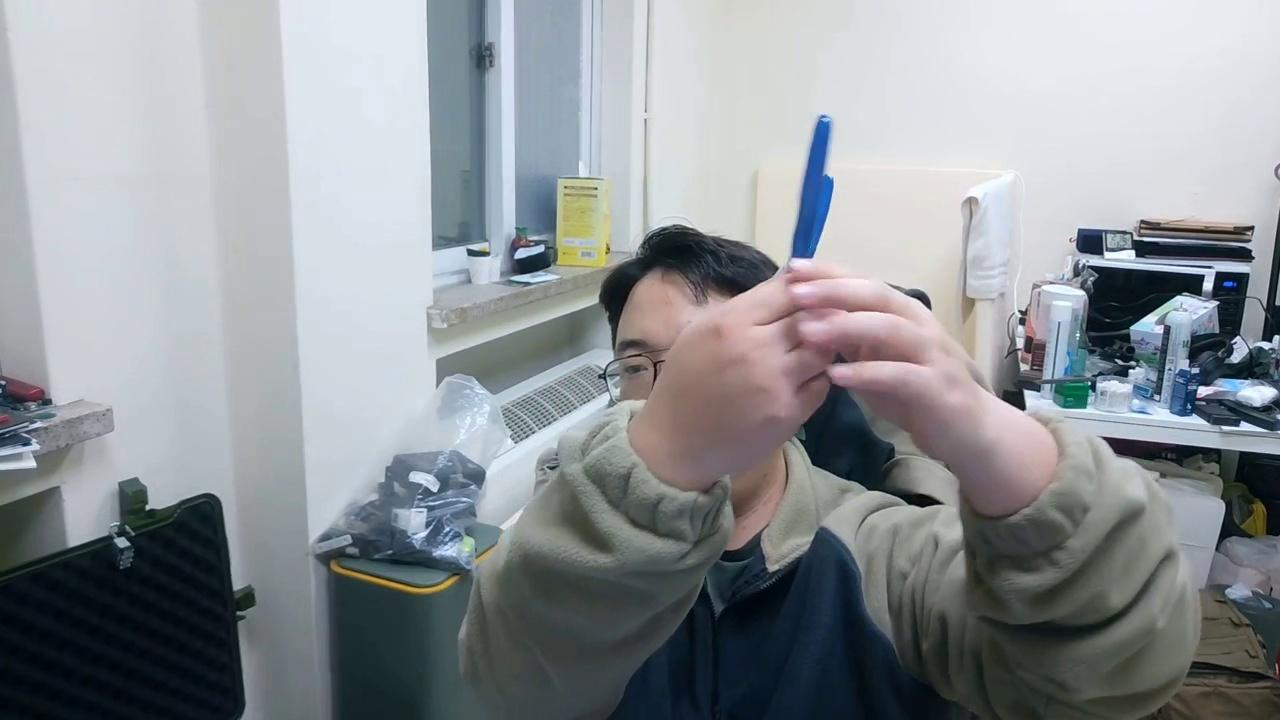blue_pliers: (787, 113, 836, 272)
